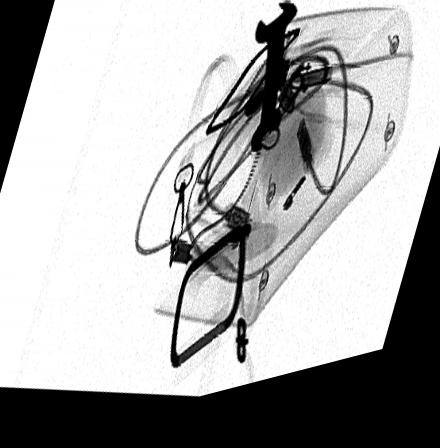Wrench: (250, 14, 298, 166)
